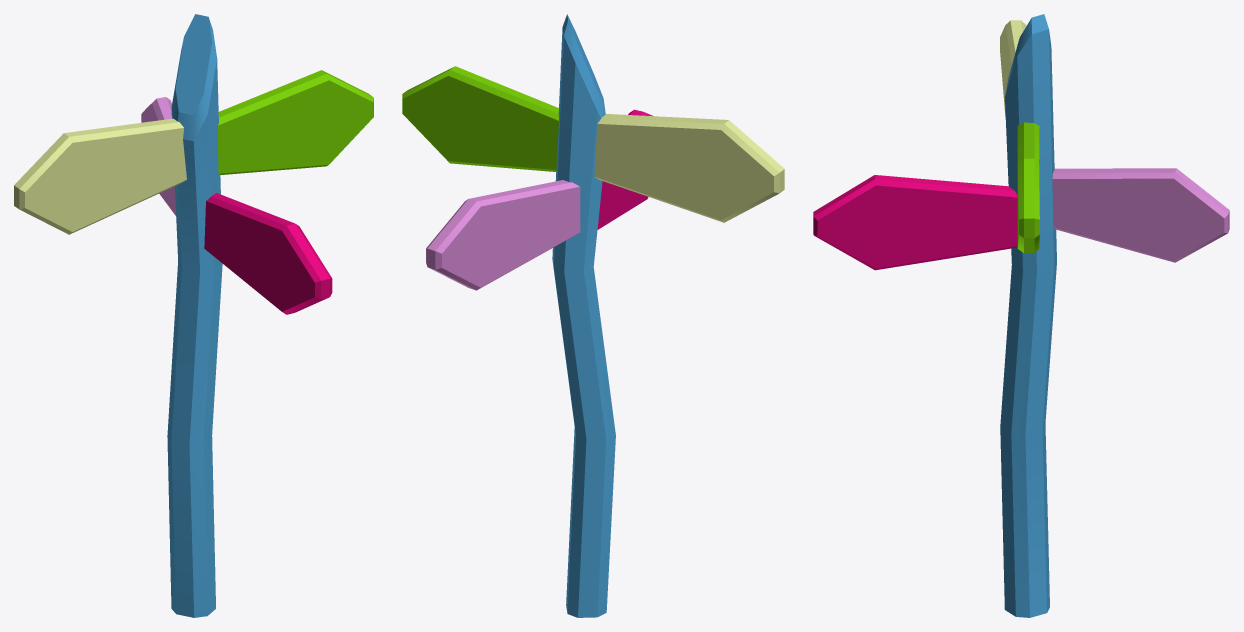
The model's file is MOD_Richtingsbord_low.fbx.
The picture shows the model from 3 angles, left to right: view 1: azimuth 30°, elevation 25°; view 2: azimuth 150°, elevation 25°; view 3: azimuth 270°, elevation 25°; orthographic projection. The views are drawn at different scales.
Parts seen in each view (by area): view 1: stump_low, Plankvijf_low, Plankvier_low, plantwo_low, plankonw_low; view 2: stump_low, Plankvijf_low, Plankvier_low, plankonw_low, plantwo_low; view 3: stump_low, plantwo_low, plankonw_low, Plankvier_low, Plankvijf_low.
Boxes of the visible parts, <box> form: stump_low: <box>167,14,222,617</box>; Plankvijf_low: <box>14,118,186,234</box>; Plankvier_low: <box>218,70,373,174</box>; plantwo_low: <box>204,193,332,314</box>; plankonw_low: <box>141,97,176,216</box>; stump_low: <box>552,14,615,617</box>; Plankvijf_low: <box>594,114,784,222</box>; Plankvier_low: <box>402,66,558,171</box>; plankonw_low: <box>426,180,580,290</box>; plantwo_low: <box>597,109,653,229</box>; stump_low: <box>1000,14,1056,617</box>; plantwo_low: <box>813,175,1017,270</box>; plankonw_low: <box>1052,168,1229,262</box>; Plankvier_low: <box>1017,122,1039,253</box>; Plankvijf_low: <box>1000,20,1026,116</box>.
Bounding box in the file's own units: 0.8219 × 1.26 × 0.7958.
